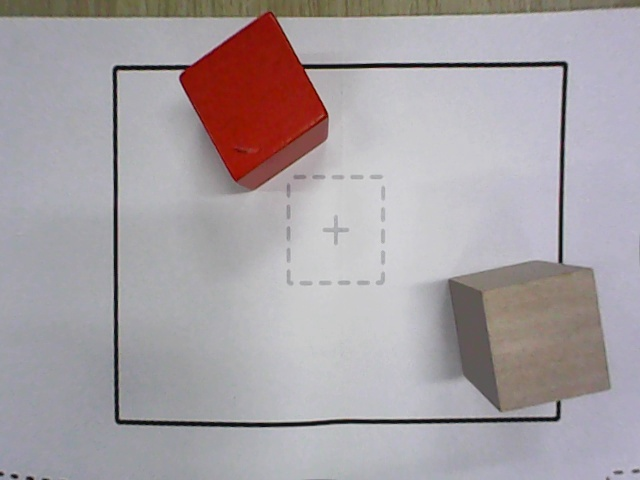upside of big cube: (177, 10, 328, 183), (479, 268, 610, 413)
